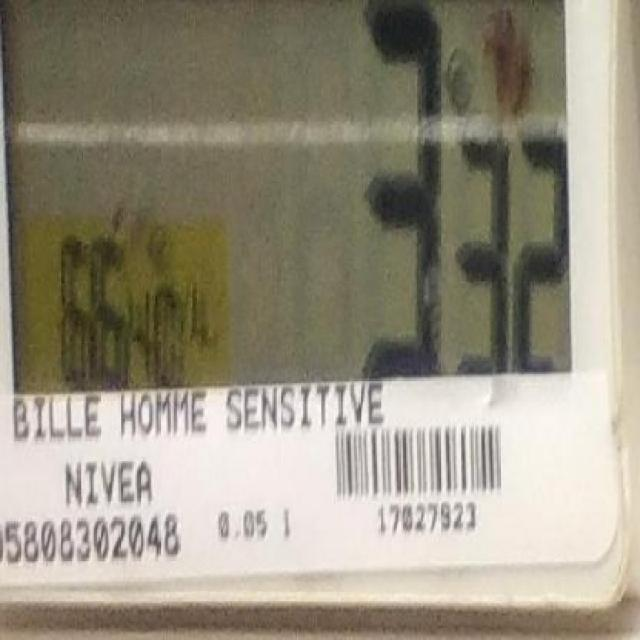display: (5, 0, 572, 392)
frame: (331, 2, 566, 376), (46, 228, 157, 389), (0, 508, 187, 574), (369, 497, 482, 541), (209, 504, 273, 542)
gauge: (0, 0, 632, 611)
